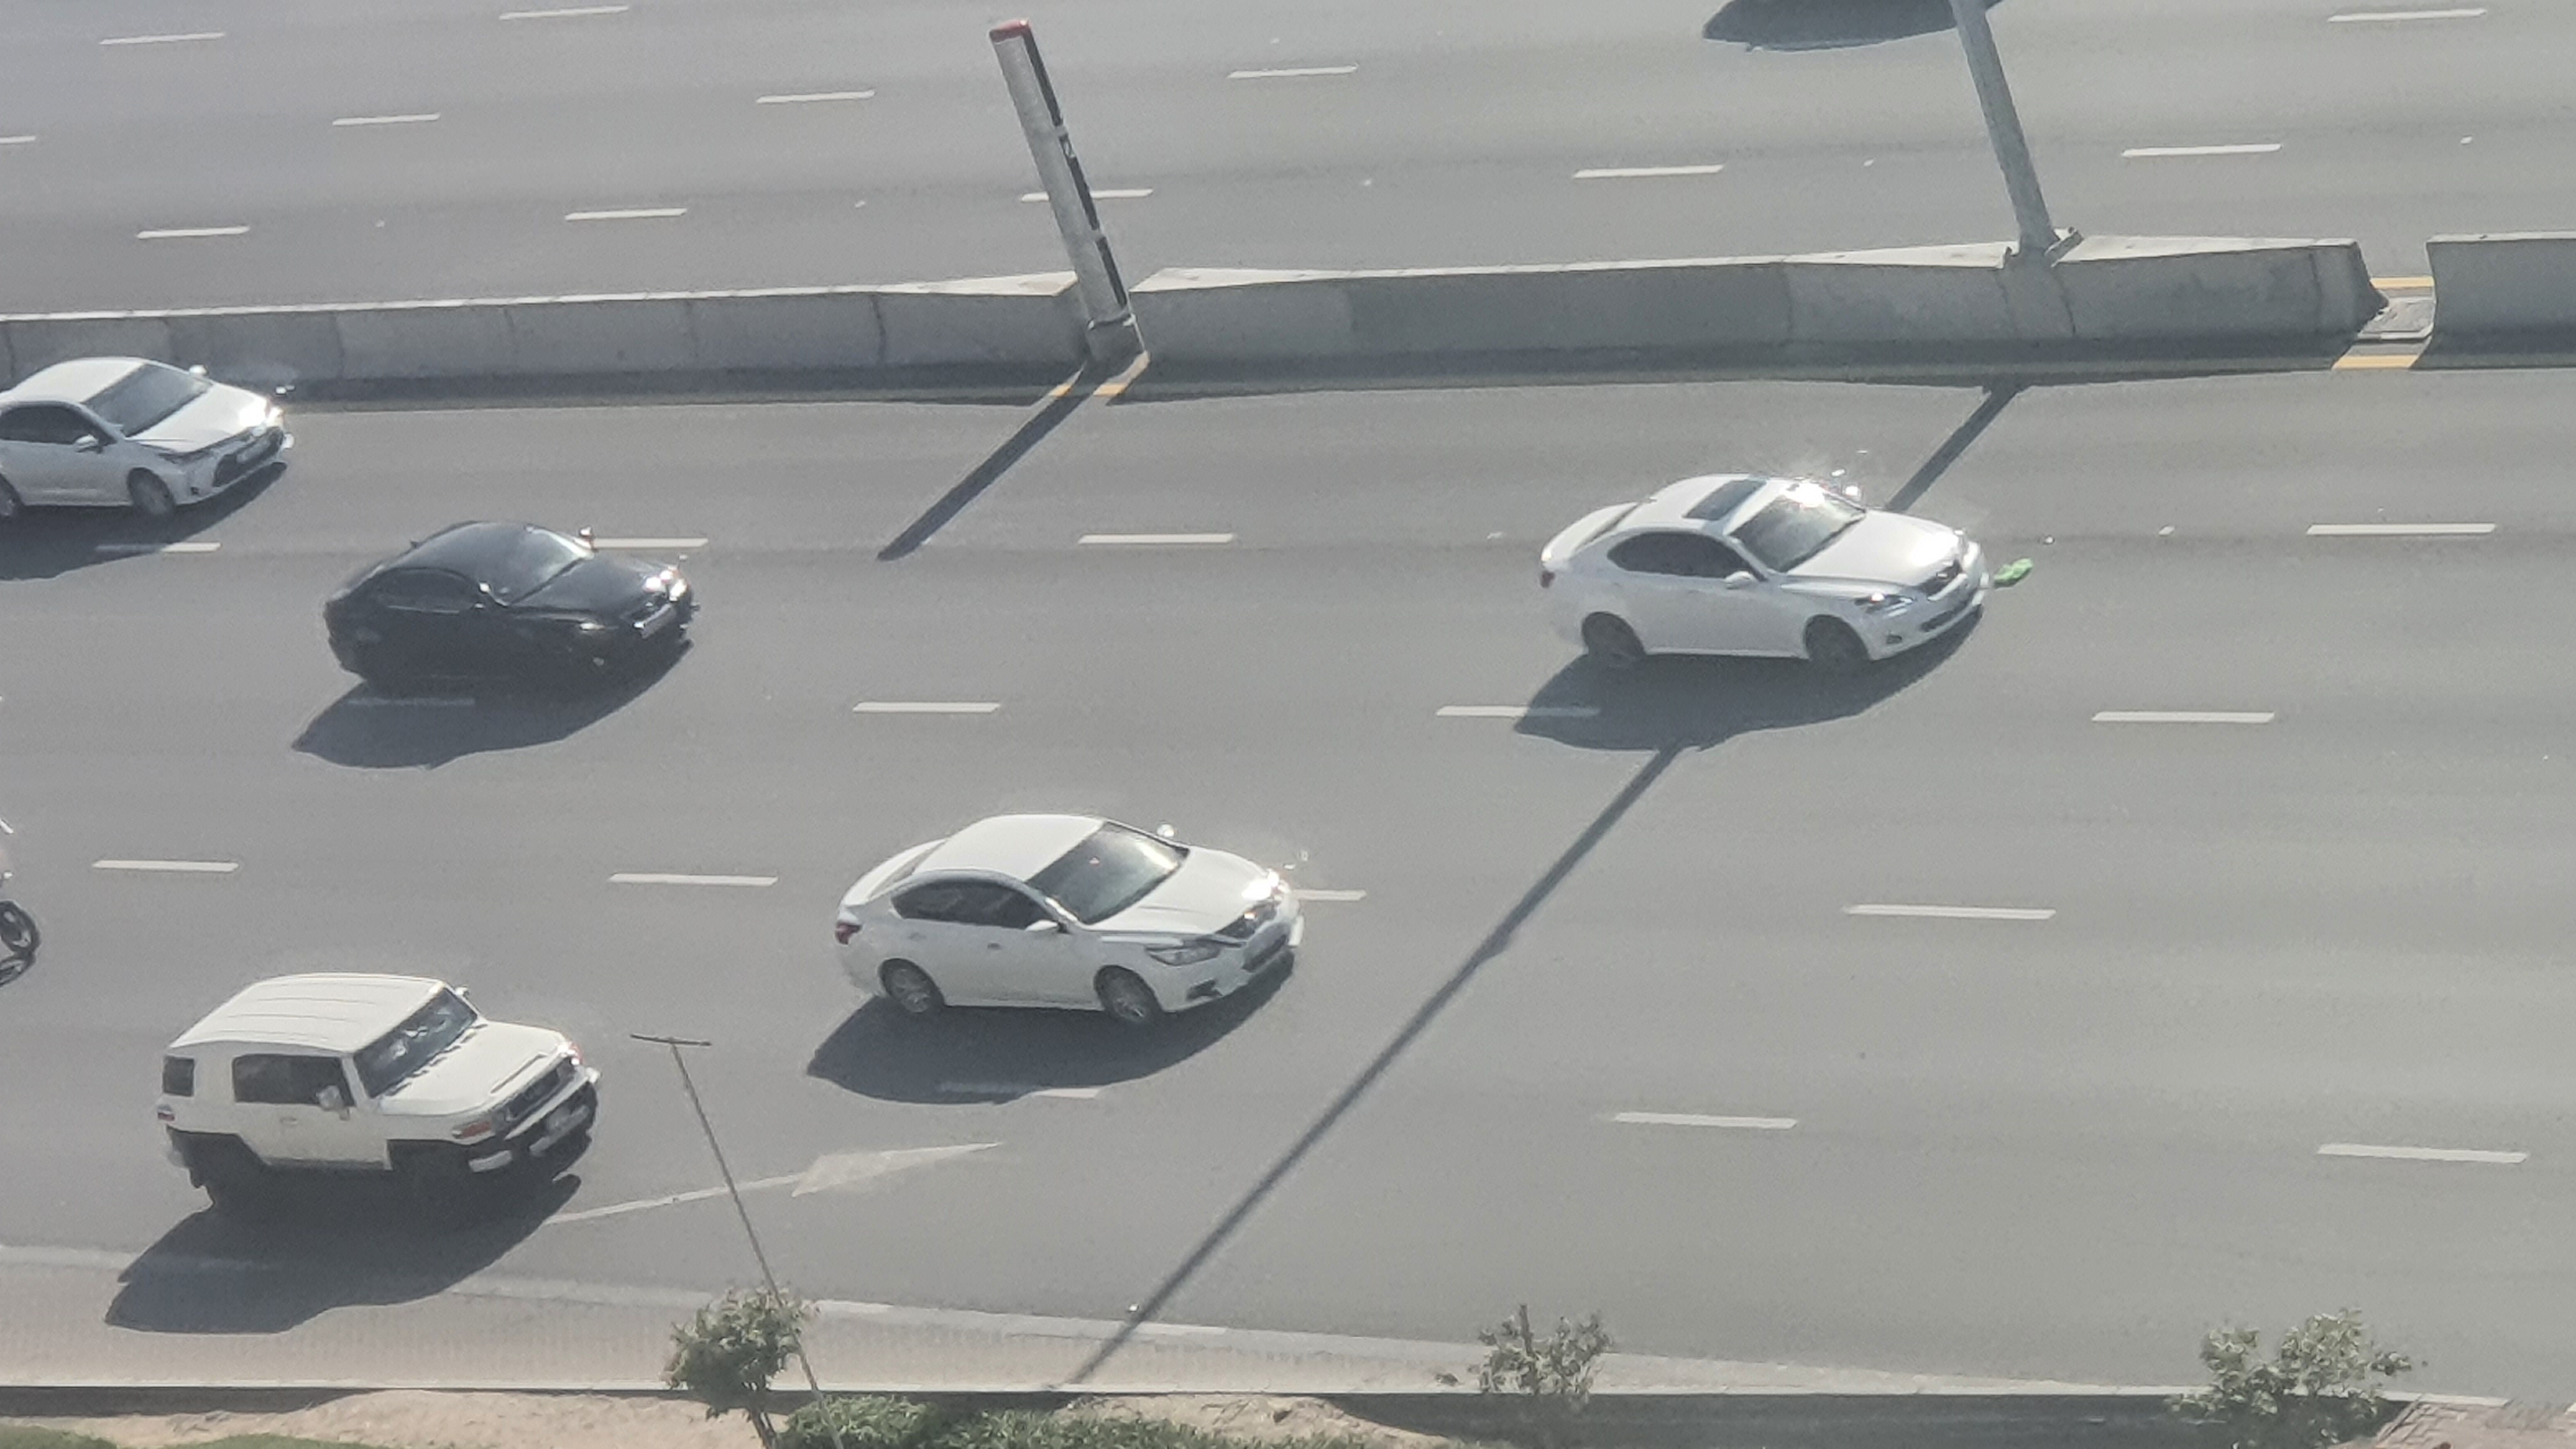NotSunroof: (138, 964, 605, 1215), (824, 814, 1311, 1037), (322, 518, 702, 697), (4, 352, 301, 534)
Sunroof: (1529, 471, 1996, 694)
